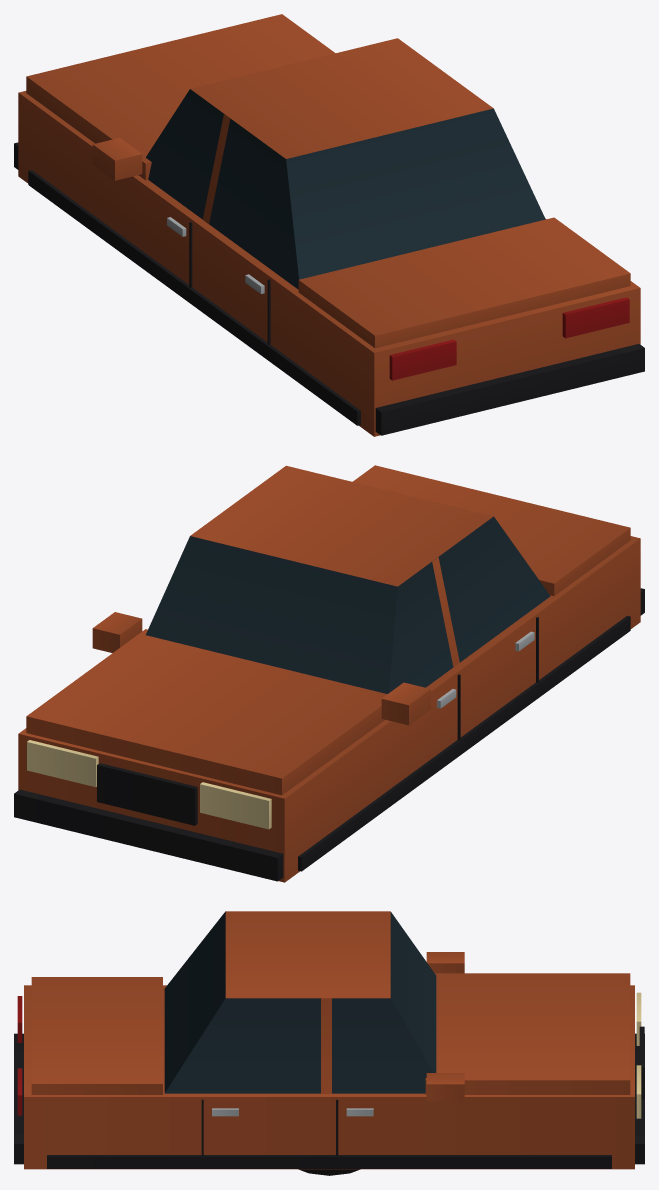
Rendered from courier.glb.
3 renders of one model, top to bottom at view 1: azimuth 30°, elevation 25°; view 2: azimuth 150°, elevation 25°; view 3: azimuth 270°, elevation 25°, orthographic. The views are drawn at different scales.
Visible parts, largest first — view 1: Body; view 2: Body; view 3: Body.
Boxes of the visible parts, bbox=[...] form: Body: bbox=[14, 14, 644, 436]; Body: bbox=[14, 465, 644, 882]; Body: bbox=[14, 911, 644, 1169].
Size of the model in its own units: 1.97 by 1.3 by 3.96.
2 materials, 2 textured.
